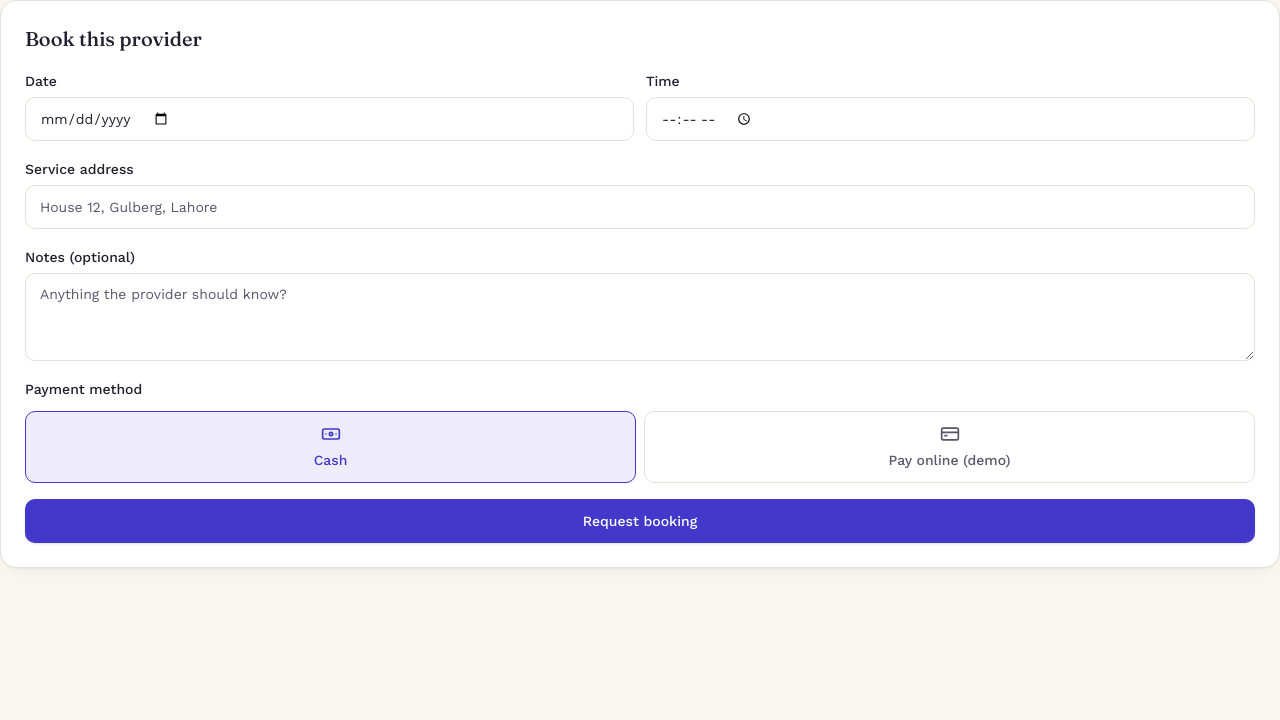
BookingForm › switches the selected payment method and shows the demo disclaimer
The width and height of the screenshot is (1280, 720).
Expected: the text "no real payment gateway" is not shown
Click the button "Pay online (demo)" at (950, 447), box [644,411,1255,483]
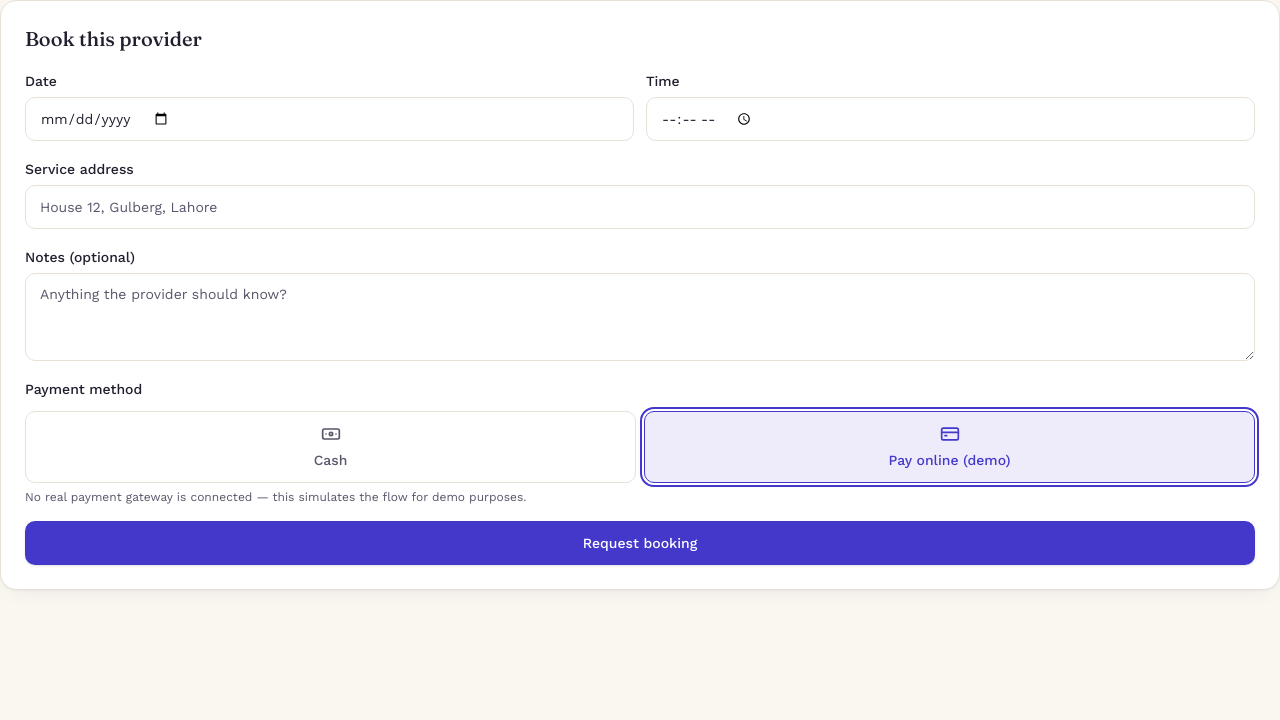
Now the text "No real payment gateway is connected" is shown, box [25,490,526,504]
